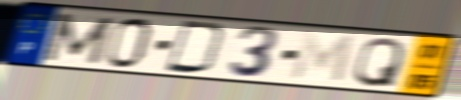0: (103, 16, 156, 70)
3: (227, 24, 284, 80)
D: (162, 19, 230, 76)
M: (40, 11, 117, 66), (288, 30, 358, 85)
Q: (351, 36, 408, 89)
